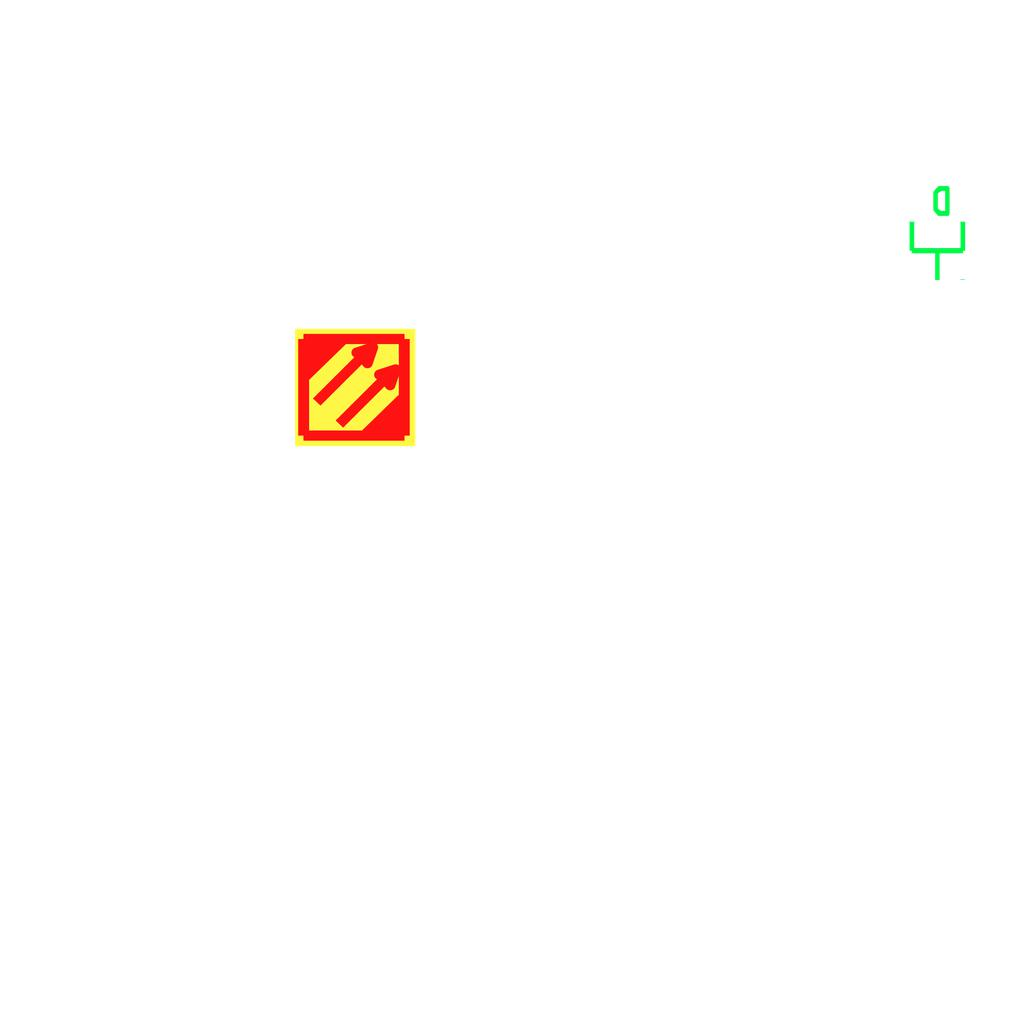ASR_Ansaugrauchmelder: (293, 325, 418, 450)
Datenanschluss_einfach: (901, 183, 970, 283)
